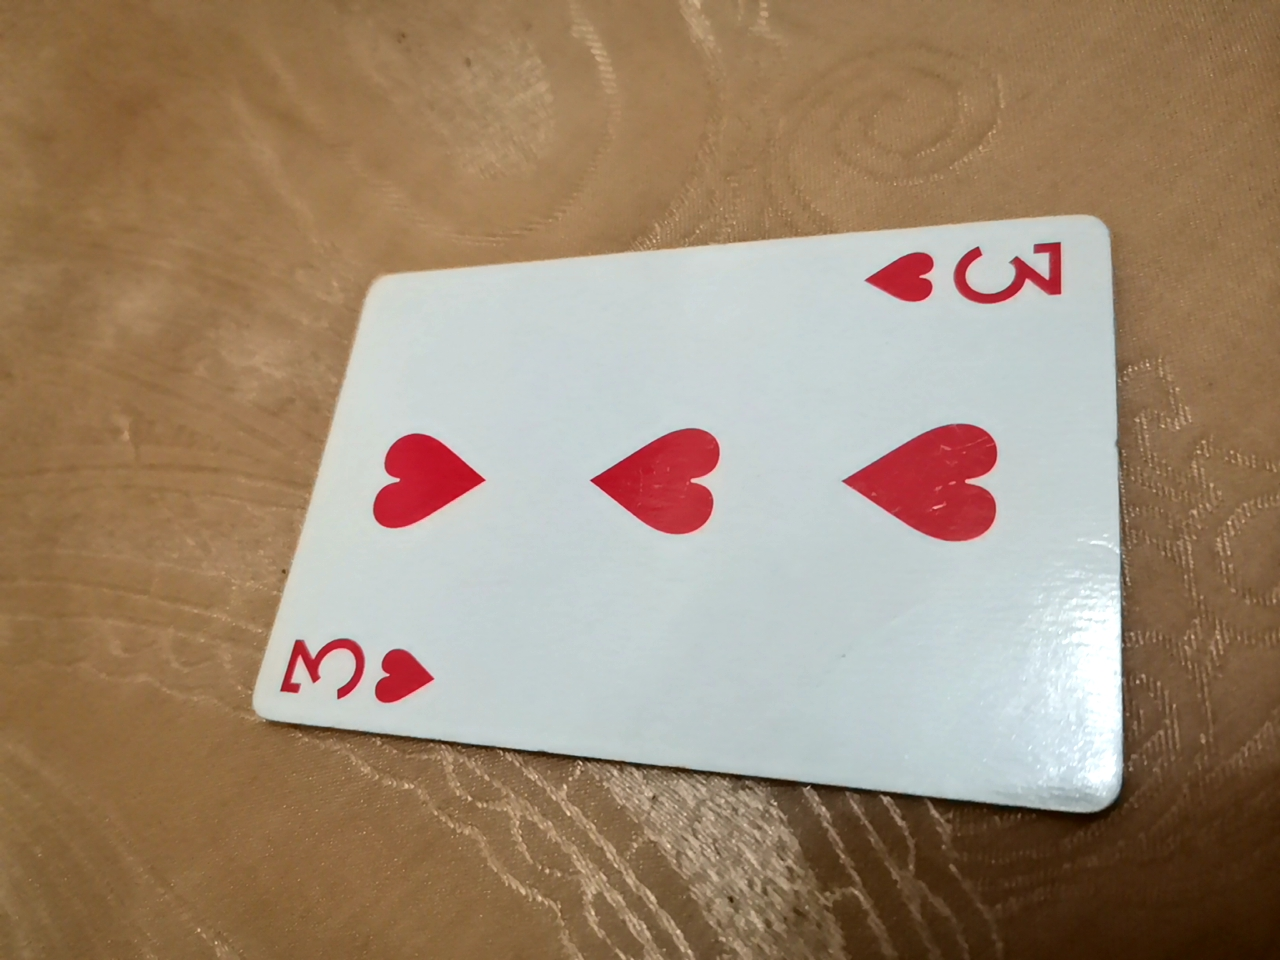hx 3: (238, 241, 1104, 830)
